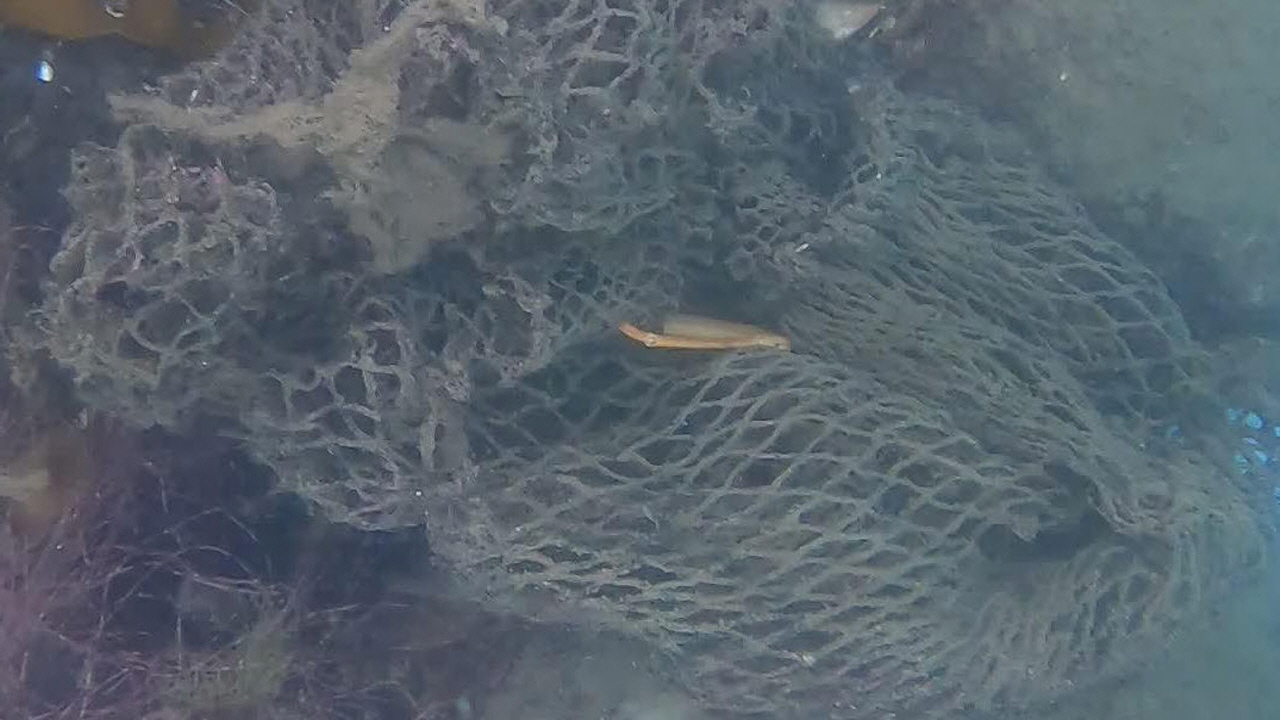fish net: (36, 0, 1265, 720)
